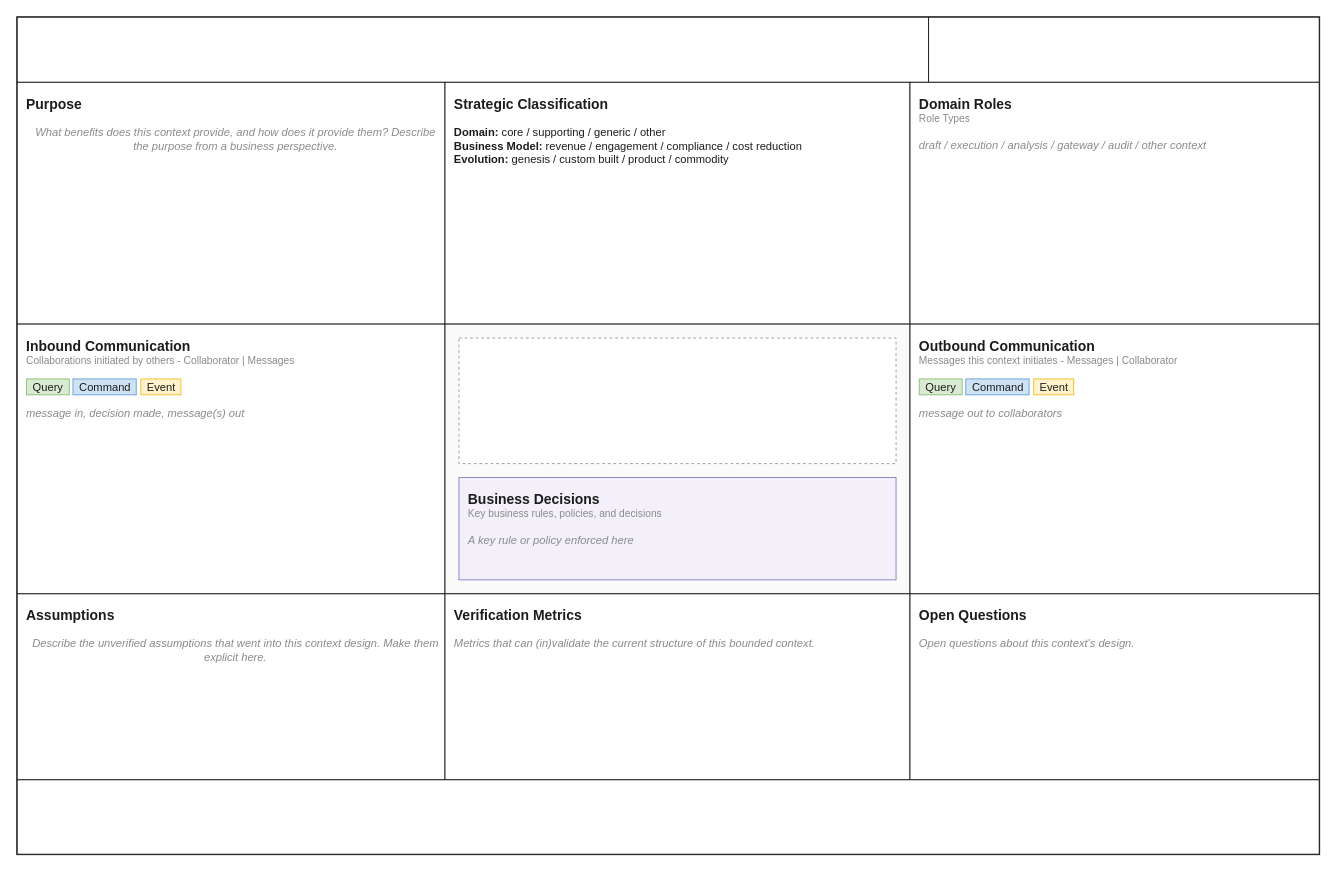
The diagram is 1335 pixels wide and 870 high, and some of its shapes have lost their labels. The shapes that lost their labels are listed below. From the top down, each one's centre as x and y in pixels, then its label:
point (472, 49): Name:
point (1123, 49): V5 github.com/ddd-crew/bounded-context-canvas CC BY 4.0
point (677, 400): Ubiquitous Language Context-specific domain terminology Term - its meaning
point (667, 816): Owned data Stores / schemas / tables this context owns.
